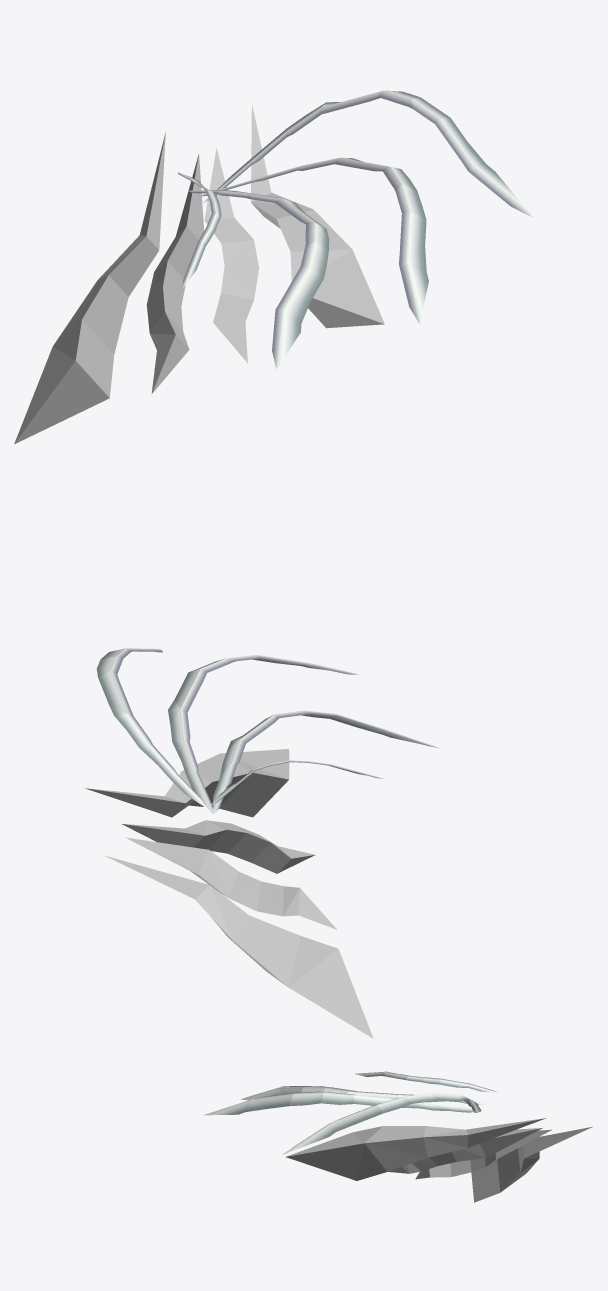
Rendered from common_righthanditem_270001.obj.
3 renders of one model, top to bottom at view 1: azimuth 30°, elevation 25°; view 2: azimuth 150°, elevation 25°; view 3: azimuth 270°, elevation 25°, orthographic. The views are drawn at different scales.
Visible parts, largest first — view 1: common_RightHandItem_270001; view 2: common_RightHandItem_270001; view 3: common_RightHandItem_270001.
Part boxes in pixels (x1,y1,x2,y2): common_RightHandItem_270001: (14,90,532,444); common_RightHandItem_270001: (85,648,440,1038); common_RightHandItem_270001: (203,1071,592,1202).
Bounding box in the file's own units: 49.67 × 33.75 × 72.35.
